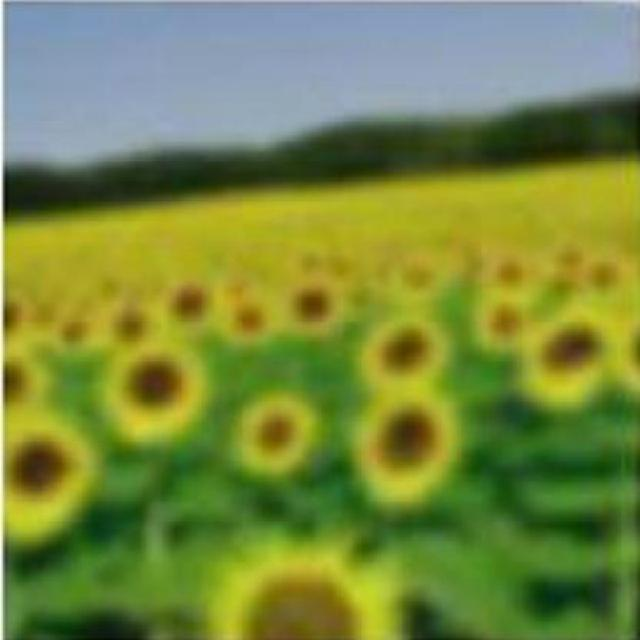sunflower: (347, 390, 451, 512), (6, 404, 95, 540), (104, 334, 206, 446)
